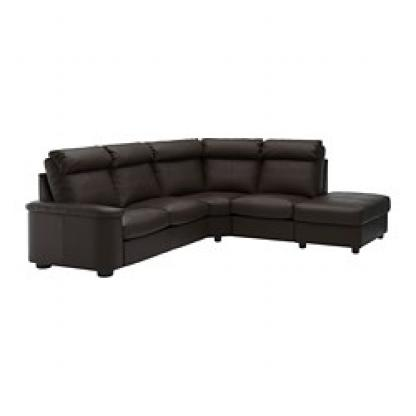Sofa: (22, 123, 394, 286)
